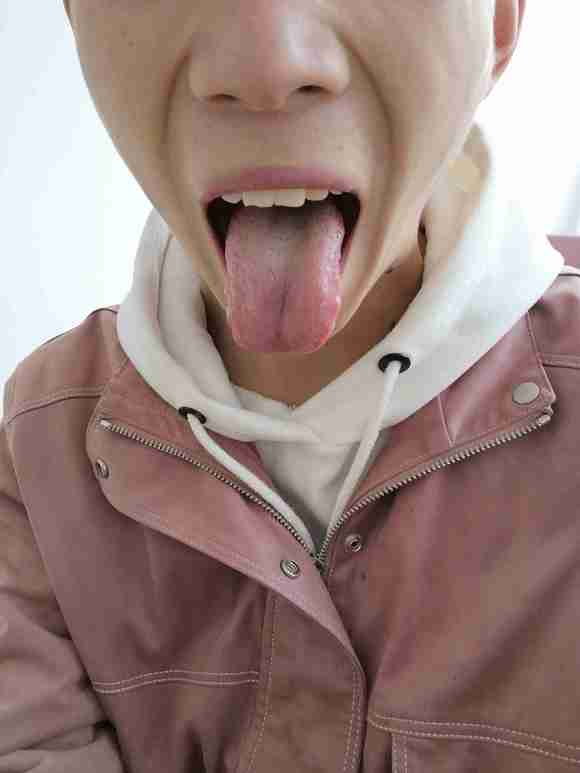huangtaishe: (224, 202, 345, 353)
liewenshe: (275, 280, 287, 317)
